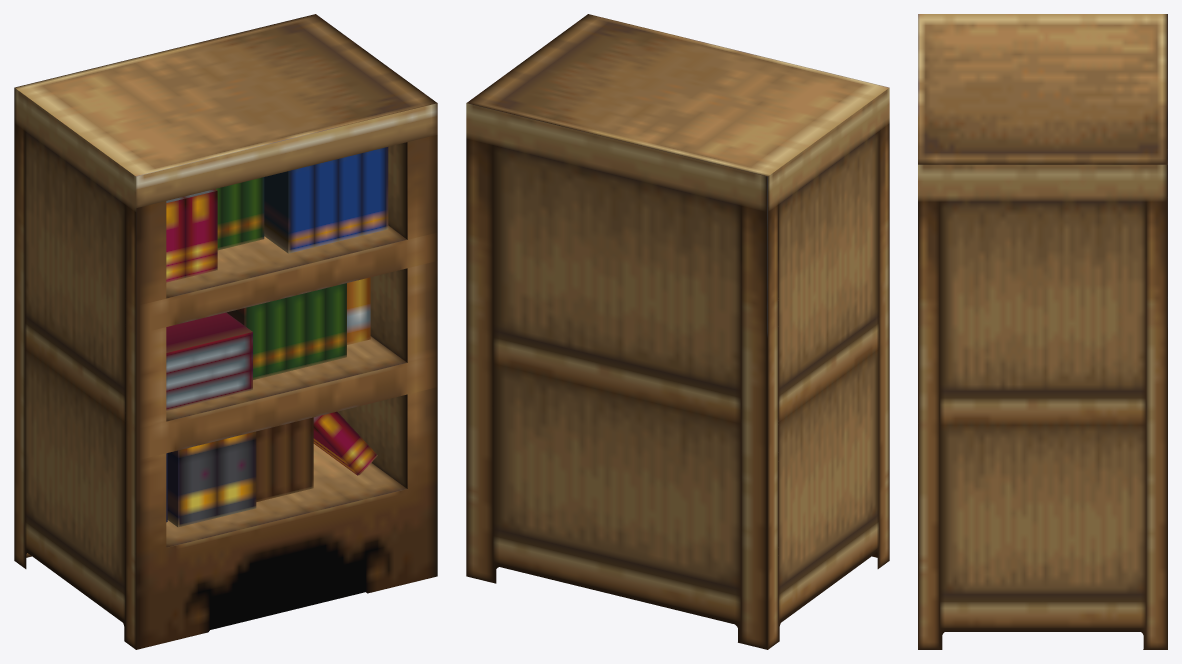
File: Inside_Poly_Shelf_07.obj
The picture shows the model from 3 angles, left to right: view 1: azimuth 30°, elevation 25°; view 2: azimuth 150°, elevation 25°; view 3: azimuth 270°, elevation 25°; orthographic projection. The views are drawn at different scales.
Parts seen in each view (by area): view 1: Cube; view 2: Cube; view 3: Cube.
Part boxes in pixels (x1=…): Cube: x1=14, y1=14, x2=437, y2=649; Cube: x1=466, y1=14, x2=889, y2=649; Cube: x1=918, y1=14, x2=1167, y2=649.
Size of the model in its own units: 1 by 1.5 by 0.7.
Materials: 1 (1 with a texture image).
